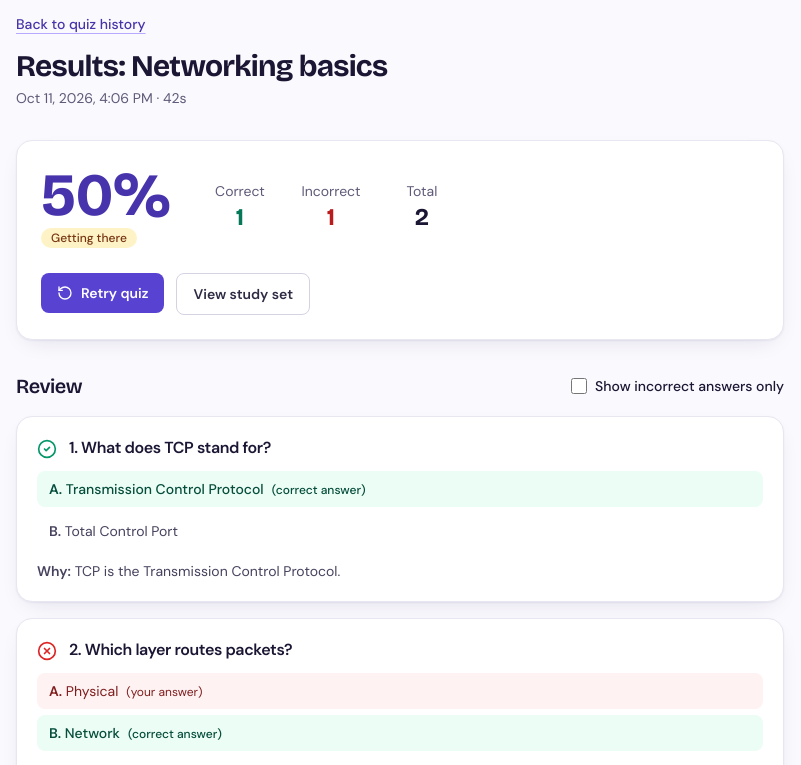
Test: Results page › shows the score, and reviews incorrect answers with explanations
Expected: the text "50%" is shown, [41,165,170,225]
Click the checkbox labelled "Show incorrect answers only".
click(579, 386)  # box [571,378,587,394]
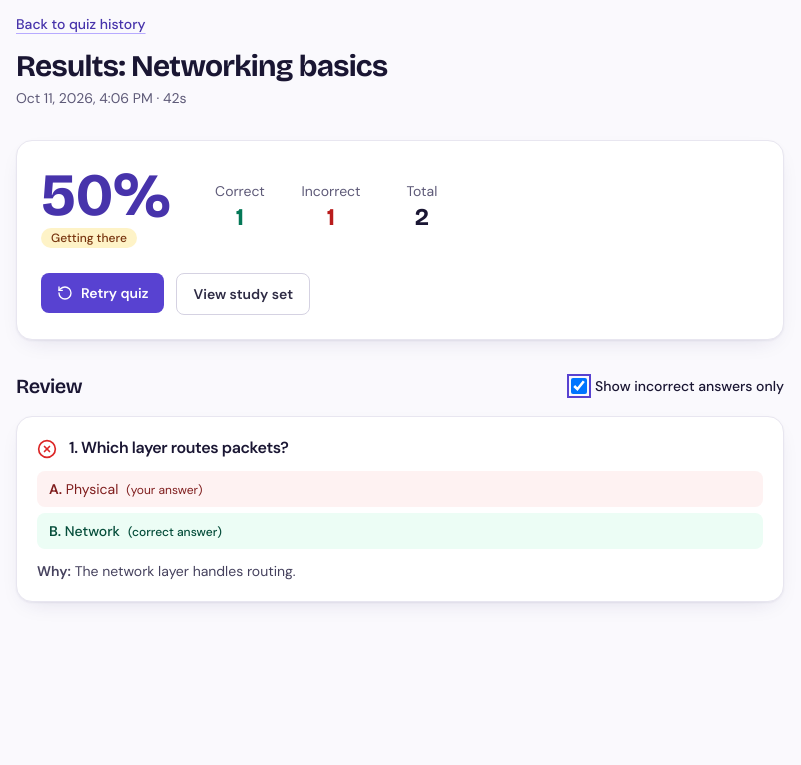
Expected: the text "The network layer handles routing." is shown, [75,562,296,580]
Now the text "TCP is the Transmission Control Protocol." is gone
